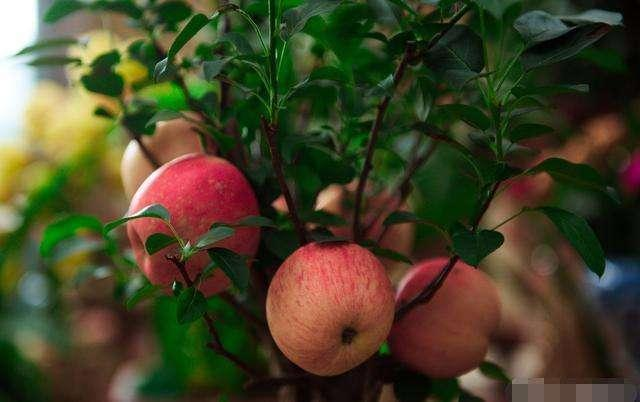apple: (264, 240, 397, 378), (124, 151, 263, 259), (399, 259, 502, 377)
